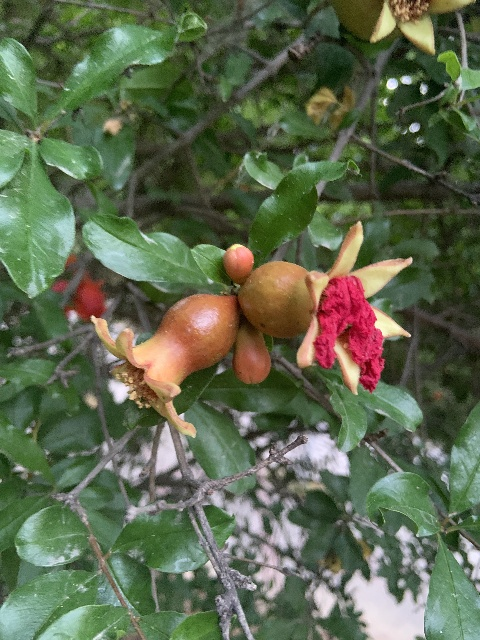bud: (232, 323, 270, 385), (222, 244, 253, 284)
early-fruit: (237, 220, 413, 397), (92, 292, 239, 438)
